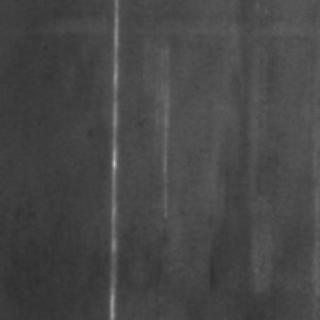scratches: (101, 2, 121, 318)
